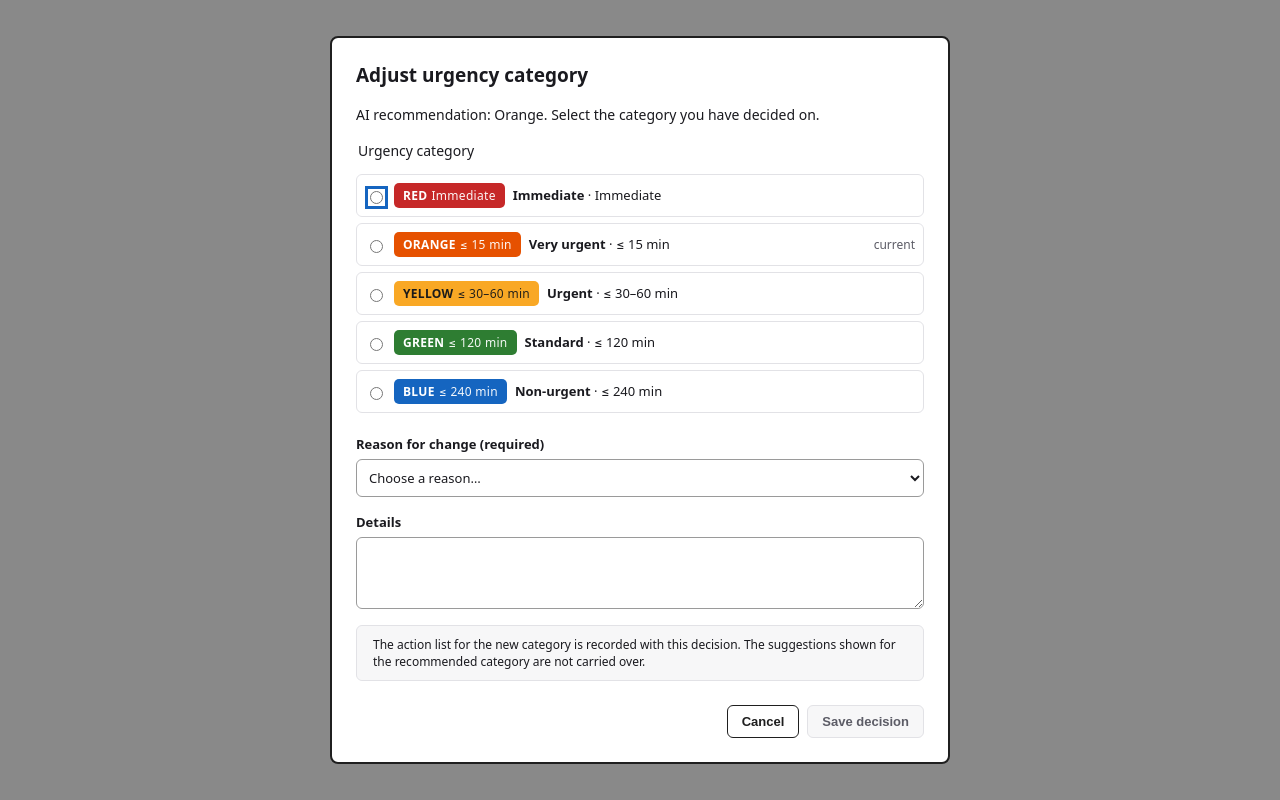
Scenario: AdjustDialog › keeps Save disabled until a reason is chosen
Step 1. Click the radio button labelled "RED Immediate Immediate · Immediate" → [376, 197], box [370,190,383,204]
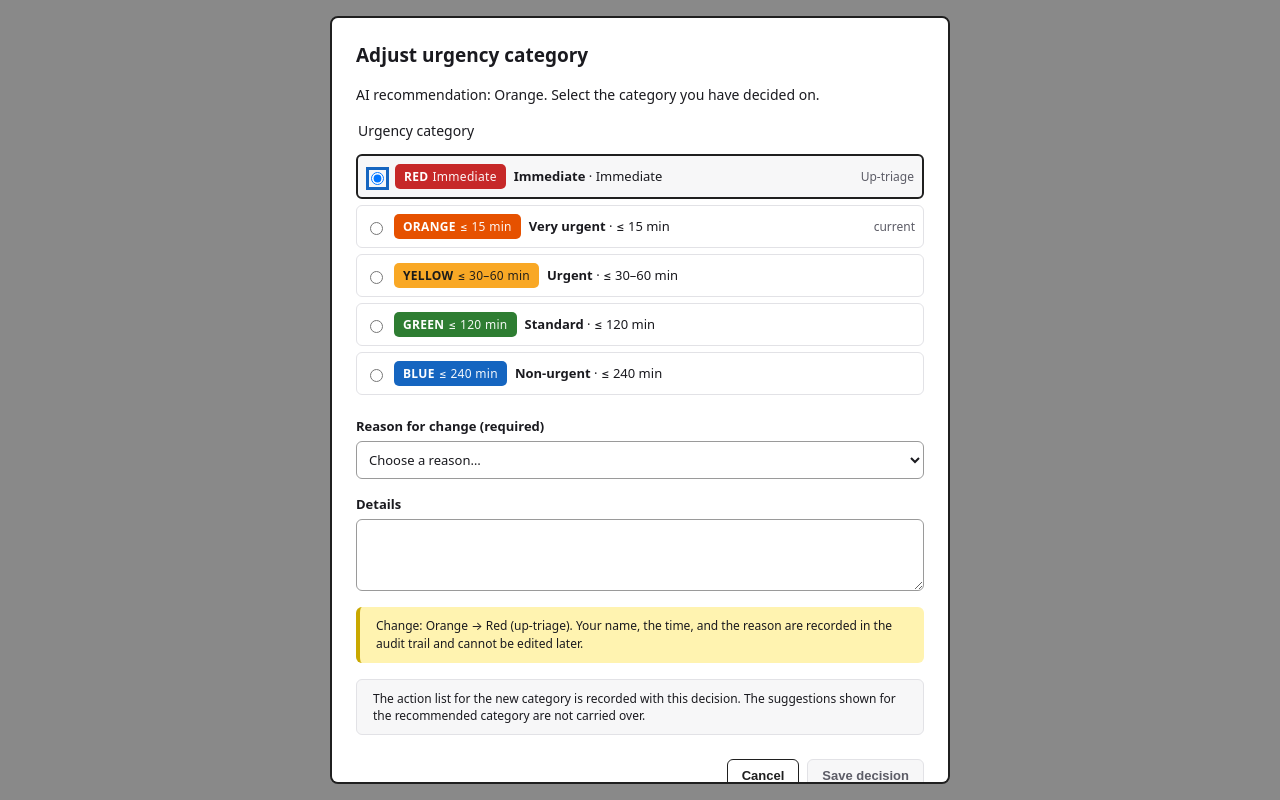
Check: the button "Save decision" is disabled, box [807,759,924,784]
Step 2. Select "Patient’s condition on arrival differs from the description" in the dropdown → [640, 460], box [356,441,924,479]
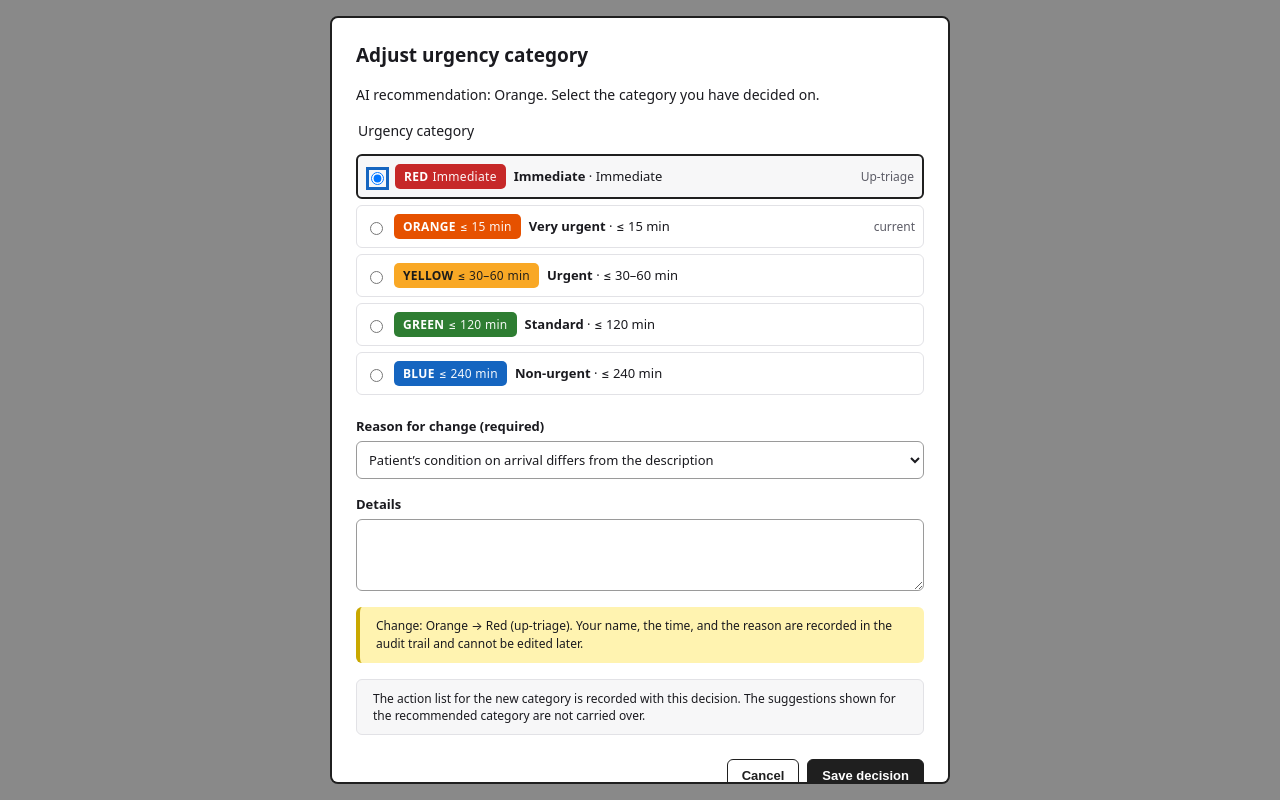
Check: the button "Save decision" is enabled, box [807,759,924,784]
